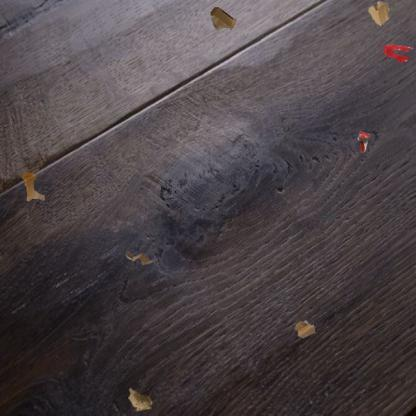dirty: (208, 4, 238, 34), (127, 386, 154, 413), (367, 0, 390, 26), (124, 248, 157, 266), (292, 318, 318, 340), (356, 130, 373, 154)
liquid: (21, 171, 46, 203), (382, 43, 416, 64)
